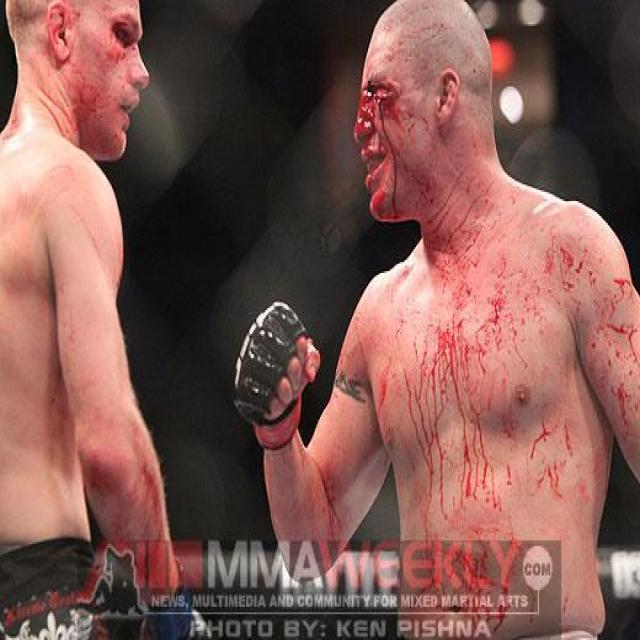flood: (377, 284, 640, 531), (342, 60, 462, 242)
